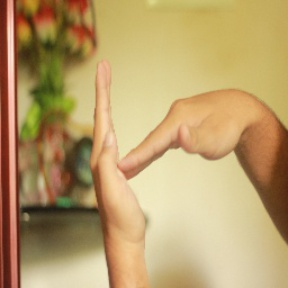Z: (87, 52, 249, 246)
